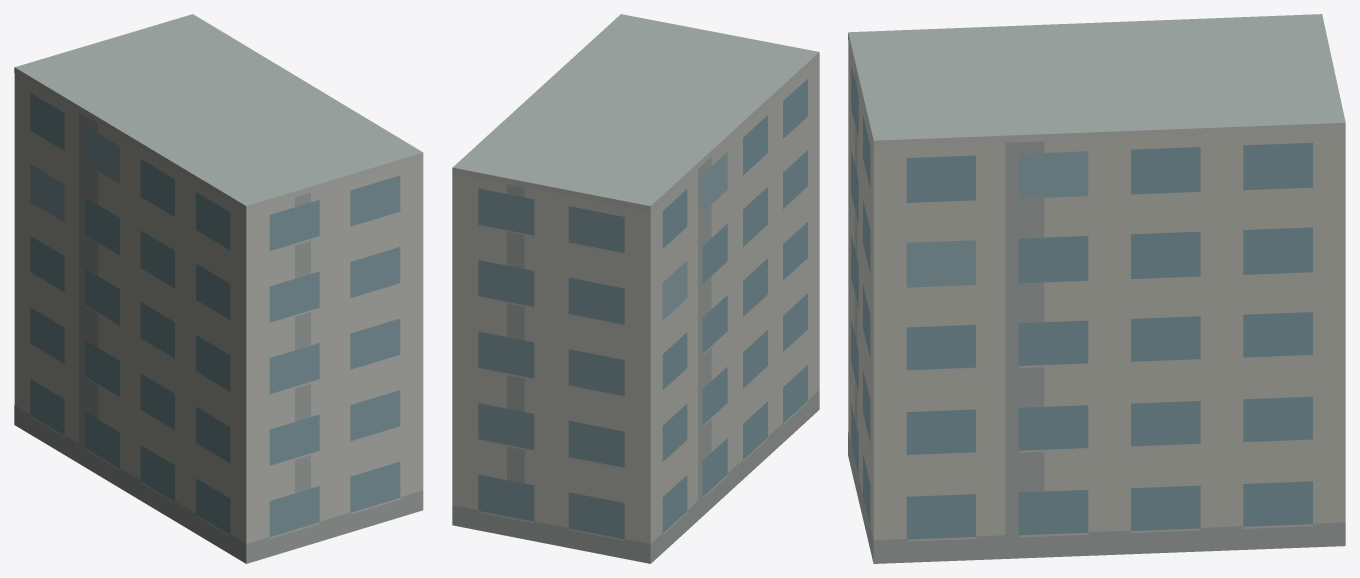
Rendered from survey-upis-32843662.glb.
The picture shows the model from 3 angles, left to right: view 1: azimuth 30°, elevation 25°; view 2: azimuth 150°, elevation 25°; view 3: azimuth 270°, elevation 25°; orthographic projection. The views are drawn at different scales.
Parts seen in each view (by area): view 1: survey-upis-32843662.tmp; view 2: survey-upis-32843662.tmp; view 3: survey-upis-32843662.tmp.
Boxes of the visible parts, x1,y1,x2,y2 form: survey-upis-32843662.tmp: [14, 14, 423, 563]; survey-upis-32843662.tmp: [452, 14, 819, 563]; survey-upis-32843662.tmp: [848, 14, 1345, 563].
Bounding box in the file's own units: 9.18 × 14.3 × 15.25.
